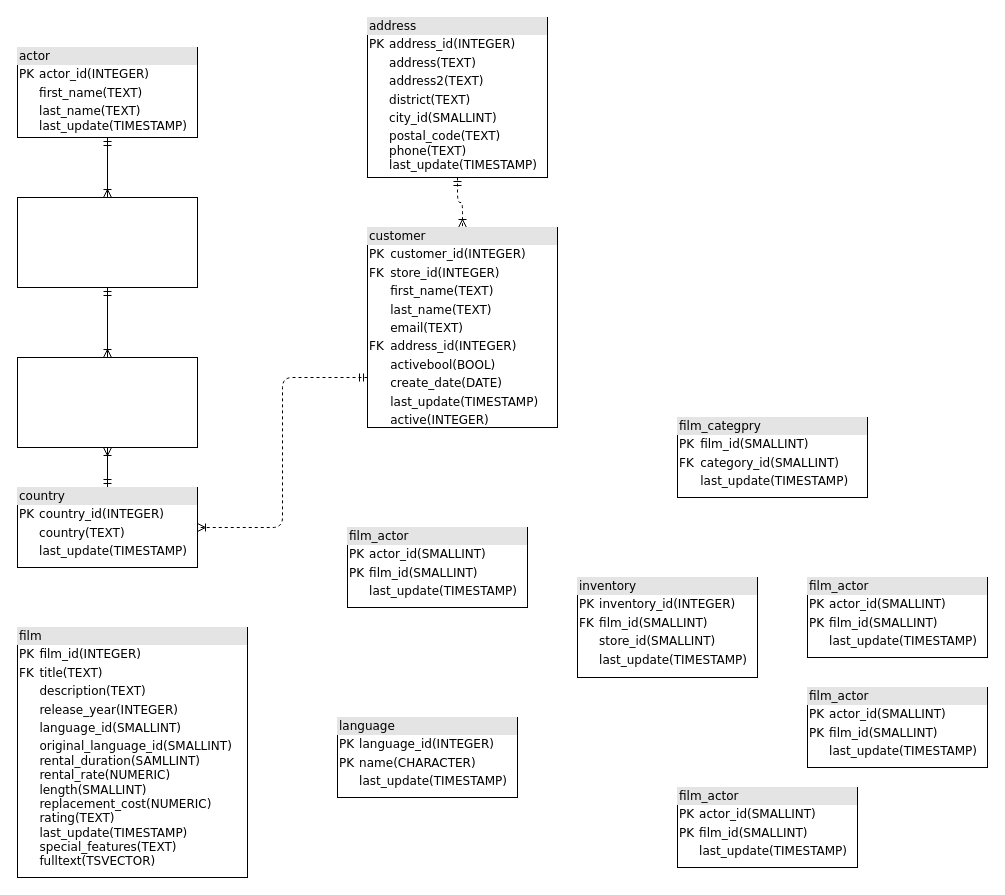
Some shapes in this 1005 by 895 pixel diagram are drawn without their labels. Each missing label, with the box of its shape:
category PK category_id(INTEGER) name(TEXT) last_update(TIMESTAMP): (16, 196, 198, 288)
city PK city_id(INTEGER) city(TEXT) last_update(TIMESTAMP): (16, 356, 198, 448)
